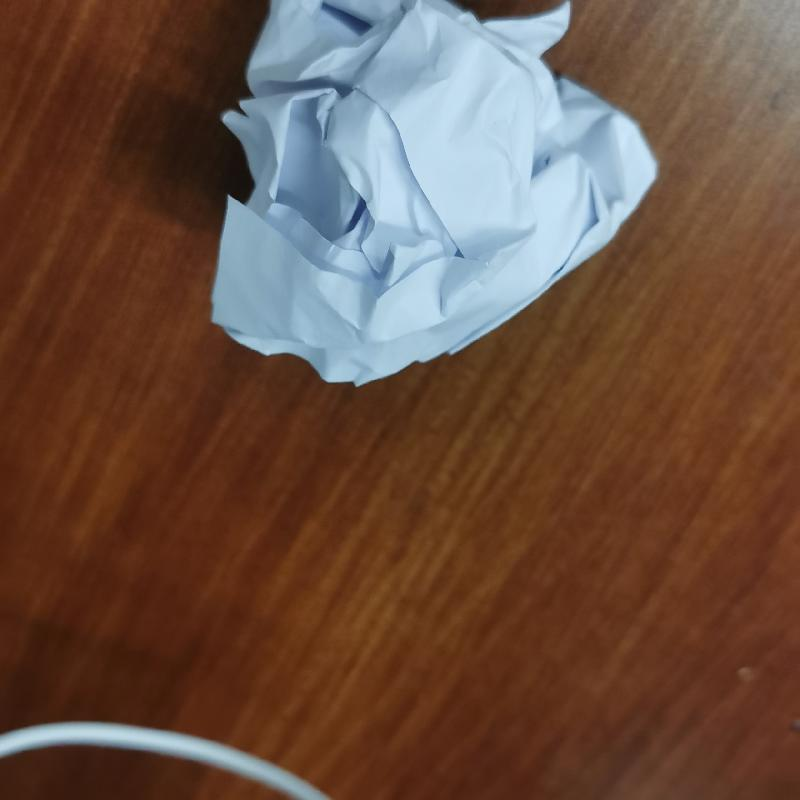spitball: (206, 1, 671, 397)
